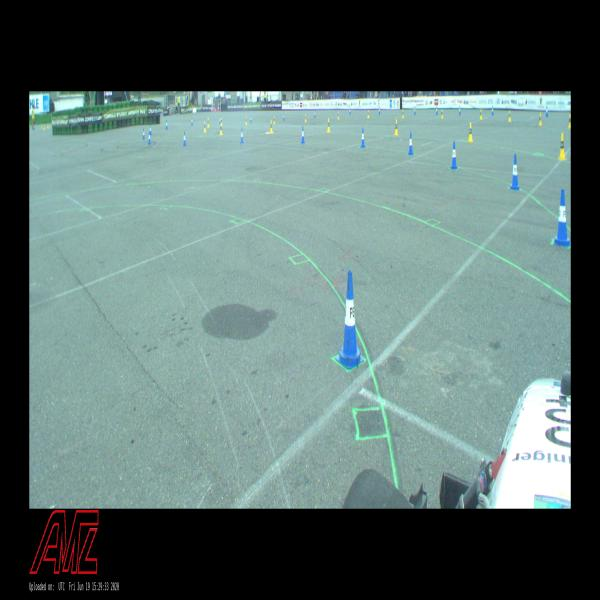blue_cone: (336, 270, 364, 370), (553, 189, 571, 247), (510, 154, 520, 190), (450, 141, 458, 169), (408, 132, 413, 154), (361, 128, 365, 147), (301, 126, 305, 143), (240, 128, 244, 143), (183, 132, 187, 145), (148, 131, 151, 144), (491, 106, 494, 116), (458, 106, 461, 115), (143, 128, 145, 140), (150, 125, 152, 135), (166, 120, 168, 130), (546, 106, 548, 116), (191, 117, 193, 126), (436, 106, 438, 115)
yellow_cone: (559, 133, 566, 160), (468, 123, 473, 142), (394, 118, 399, 136), (568, 113, 571, 128), (327, 118, 330, 132), (270, 120, 273, 134), (539, 112, 542, 125), (207, 117, 210, 128), (508, 110, 511, 121), (220, 123, 222, 135), (367, 110, 370, 118), (204, 122, 206, 132), (480, 109, 482, 119), (220, 117, 222, 126), (246, 116, 248, 125), (441, 109, 443, 118), (304, 114, 306, 122), (338, 112, 340, 120), (402, 110, 404, 118)
